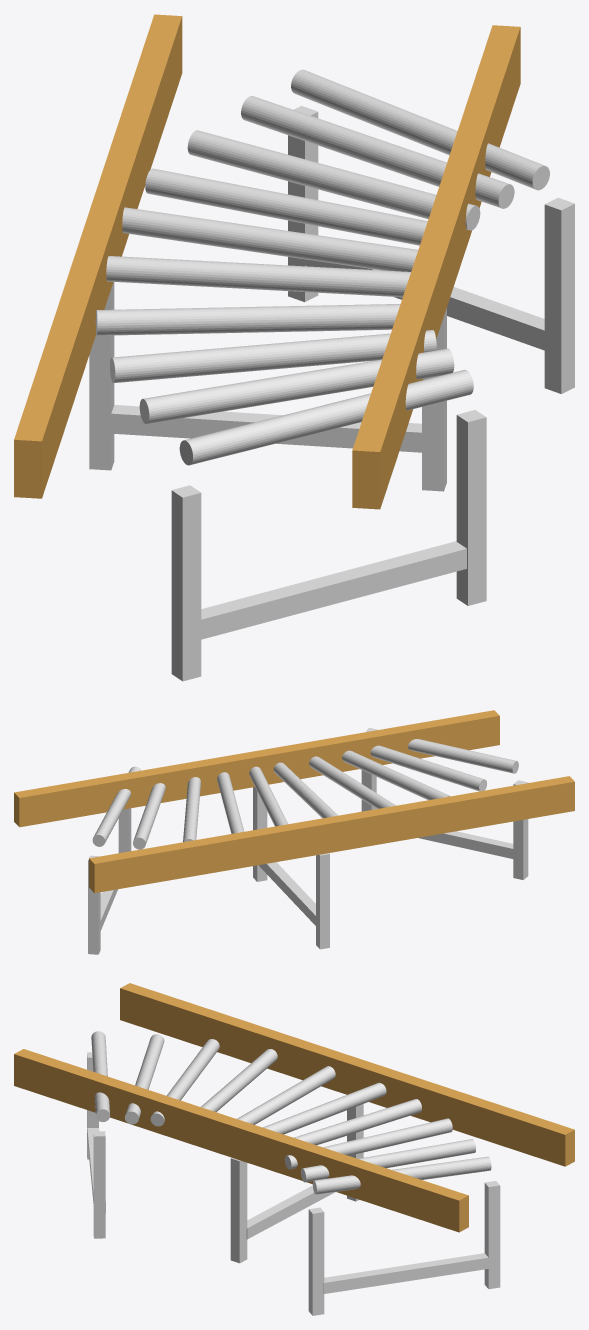
Rendered from turnTransTape.glb.
3 renders of one model, top to bottom at view 1: azimuth 30°, elevation 25°; view 2: azimuth 150°, elevation 25°; view 3: azimuth 270°, elevation 25°, orthographic. The views are drawn at different scales.
Parts seen in each view (by area): view 1: 柱体.002, 立方体.006, 立方体.007; view 2: 立方体.006, 柱体.002, 立方体.007; view 3: 立方体.006, 柱体.002, 立方体.007.
Part boxes in pixels (left/top/right/bottom): 柱体.002: left=95, top=69, right=549, bottom=465; 立方体.006: left=14, top=14, right=520, bottom=509; 立方体.007: left=89, top=105, right=574, bottom=681; 立方体.006: left=14, top=710, right=574, bottom=893; 柱体.002: left=92, top=728, right=518, bottom=849; 立方体.007: left=88, top=770, right=528, bottom=954; 立方体.006: left=14, top=983, right=574, bottom=1232; 柱体.002: left=91, top=1031, right=491, bottom=1194; 立方体.007: left=87, top=1052, right=500, bottom=1315.
Bounding box in the file's own units: 4.16 × 1.21 × 4.53.
